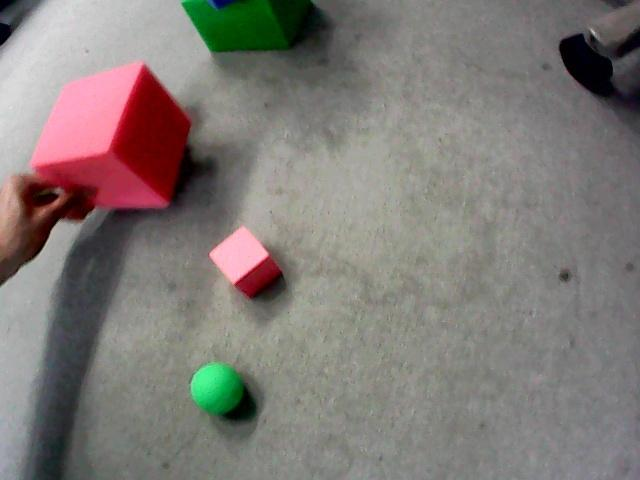blue_block: (206, 0, 237, 9)
red_block: (30, 63, 190, 207), (210, 226, 280, 296)
